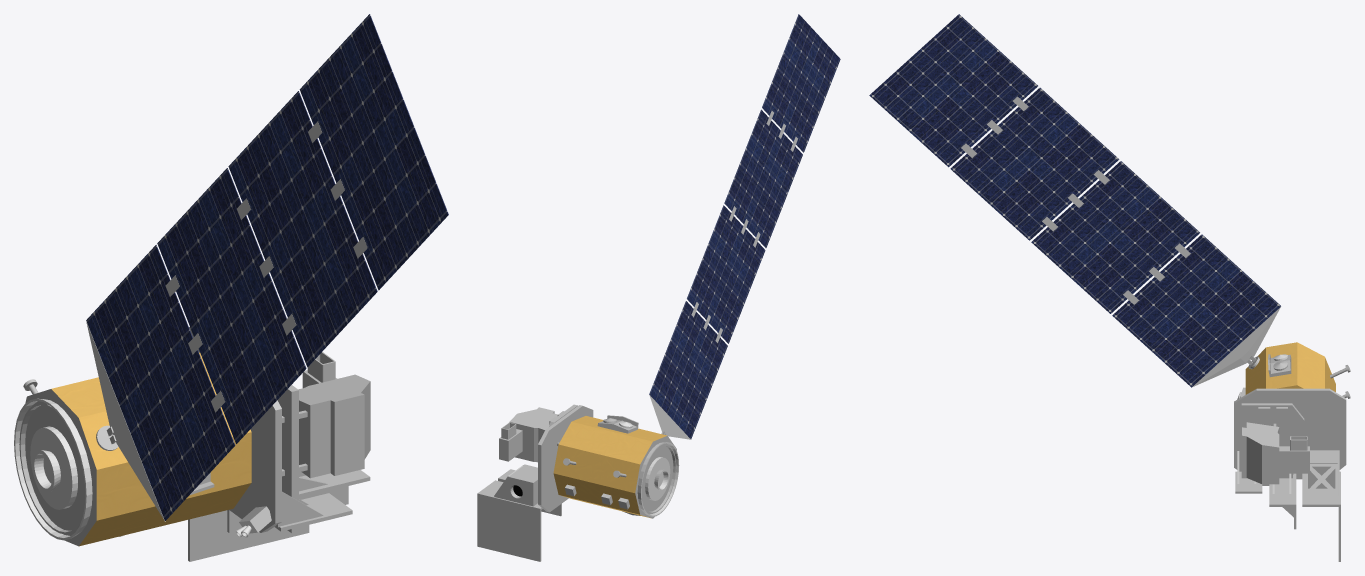
File: LANDSAT 8.glb
The picture shows the model from 3 angles, left to right: view 1: azimuth 30°, elevation 25°; view 2: azimuth 150°, elevation 25°; view 3: azimuth 270°, elevation 25°; orthographic projection. The views are drawn at different scales.
Parts seen in each view (by area): view 1: Cube.009, Cylinder, Cube.017, Cube, Cube.005, Cylinder.011, Cylinder.009, Cube.007, Cube.020, Cube.039, Cube.001, Cylinder.008 (+6 smaller); view 2: Cube.009, Cylinder, Cube.005, Cube, Cube.017, Cube.016, Cylinder.011, Cylinder.009, Cube.007, Cube.018, Cube.039; view 3: Cube.009, Cube, Cylinder, Cube.017, Cube.020, Cube.007, Cube.039, Cube.016, Cube.018, Cube.008, Cube.002.
Boxes of the visible parts, left/top/right/bottom form: Cube.009: left=86, top=14, right=448, bottom=520; Cylinder: left=25, top=352, right=251, bottom=546; Cube.017: left=298, top=374, right=370, bottom=478; Cube: left=189, top=327, right=281, bottom=532; Cube.005: left=188, top=510, right=309, bottom=561; Cylinder.011: left=30, top=426, right=77, bottom=509; Cylinder.009: left=14, top=398, right=92, bottom=540; Cube.007: left=86, top=321, right=165, bottom=521; Cube.020: left=277, top=385, right=298, bottom=533; Cube.039: left=165, top=121, right=367, bottom=412; Cube.001: left=275, top=493, right=352, bottom=531; Cylinder.008: left=19, top=403, right=84, bottom=534; Cube.009: left=649, top=14, right=840, bottom=439; Cylinder: left=553, top=416, right=676, bottom=518; Cube.005: left=477, top=493, right=541, bottom=561; Cube: left=538, top=405, right=593, bottom=512; Cube.017: left=509, top=407, right=557, bottom=462; Cube.016: left=494, top=464, right=537, bottom=506; Cylinder.011: left=645, top=457, right=670, bottom=500; Cylinder.009: left=637, top=442, right=679, bottom=516; Cube.007: left=649, top=395, right=690, bottom=439; Cube.018: left=499, top=429, right=522, bottom=461; Cube.039: left=691, top=110, right=797, bottom=342; Cube.009: left=869, top=14, right=1280, bottom=387; Cube: left=1234, top=388, right=1346, bottom=479; Cylinder: left=1245, top=342, right=1335, bottom=394; Cube.017: left=1242, top=422, right=1279, bottom=484; Cube.020: left=1241, top=403, right=1304, bottom=485; Cube.007: left=1191, top=307, right=1280, bottom=387; Cube.039: left=961, top=96, right=1190, bottom=304; Cube.016: left=1303, top=450, right=1339, bottom=496; Cube.018: left=1279, top=446, right=1309, bottom=473; Cube.008: left=1305, top=464, right=1337, bottom=496; Cube.002: left=1269, top=473, right=1296, bottom=506.
Bounding box in the file's own units: 0.8848 × 2.27 × 2.1.
Materials: 5 (2 with a texture image).
